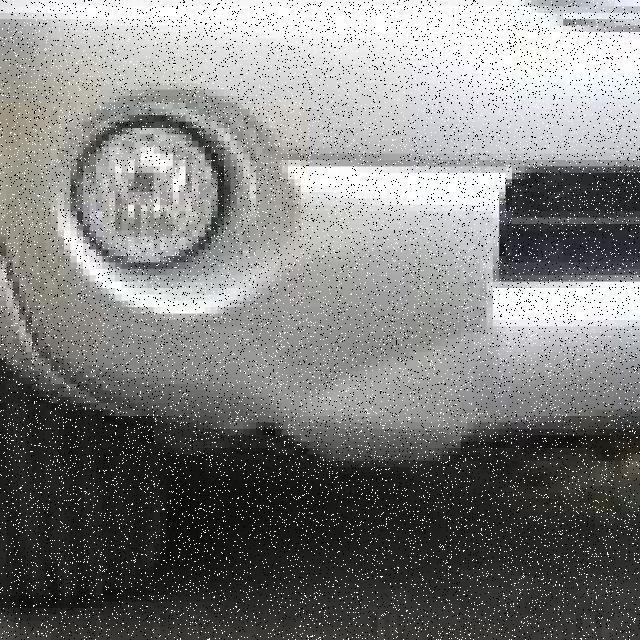car damage: (0, 199, 634, 487)
